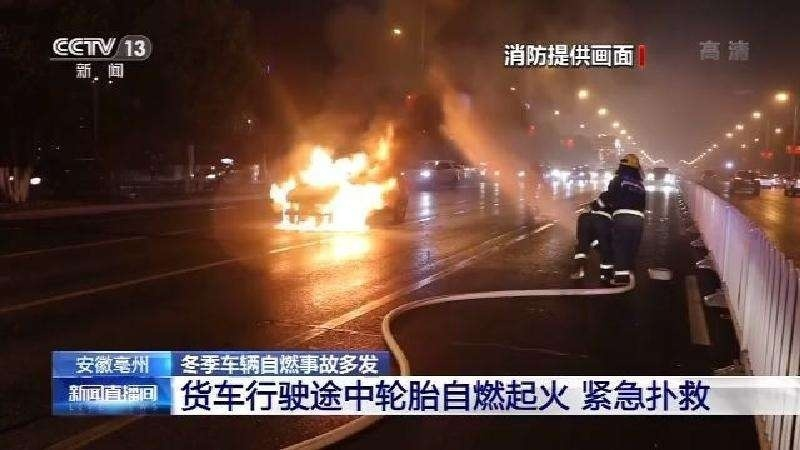fire: (268, 128, 399, 240)
